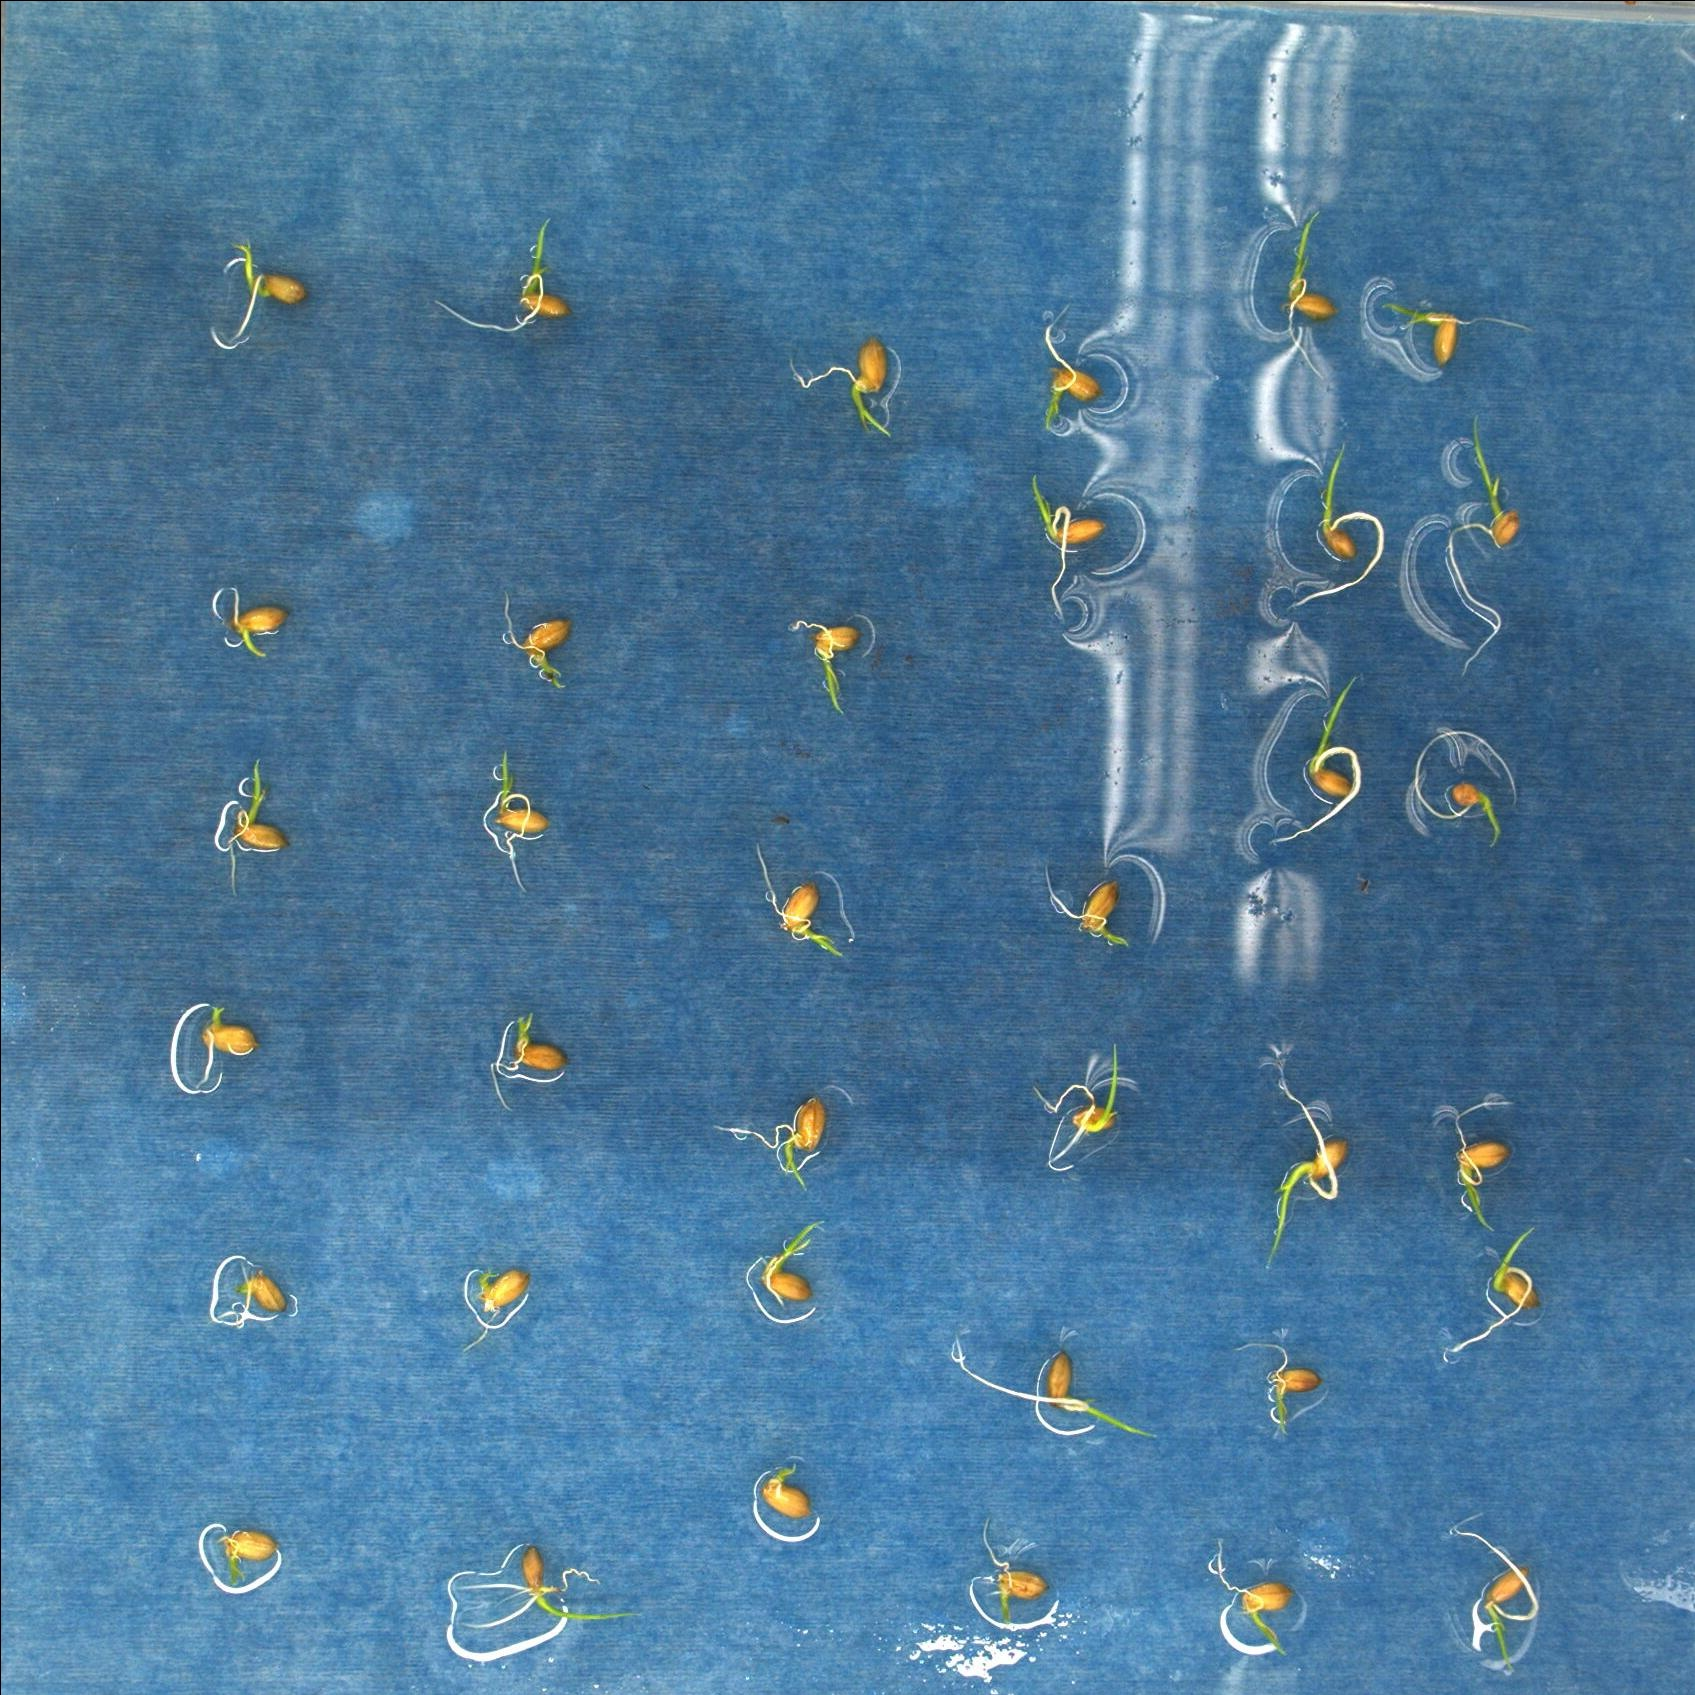not sprout: (461, 1267, 528, 1350), (234, 1267, 282, 1315)
sprout: (955, 1336, 1161, 1440), (1447, 411, 1521, 675), (1267, 1062, 1350, 1270), (1293, 439, 1386, 612), (433, 216, 568, 334), (1268, 674, 1361, 844), (1450, 1515, 1540, 1675), (463, 1541, 644, 1620), (1414, 730, 1520, 851), (785, 335, 897, 441), (1031, 470, 1107, 622), (1453, 1223, 1538, 1354), (714, 1097, 827, 1195), (1034, 1045, 1124, 1166), (753, 843, 847, 958), (1380, 300, 1537, 365), (1215, 1538, 1298, 1655), (1284, 211, 1336, 379), (227, 754, 290, 891), (228, 237, 310, 343), (1236, 1340, 1324, 1437), (494, 747, 553, 893), (1040, 303, 1105, 432), (981, 1513, 1054, 1627), (1454, 1099, 1515, 1232), (490, 1012, 570, 1113), (1043, 865, 1132, 948), (501, 591, 574, 691), (792, 618, 860, 717), (761, 1215, 830, 1309), (192, 1006, 262, 1091), (228, 590, 293, 660), (761, 1461, 820, 1520), (220, 1530, 281, 1586)
